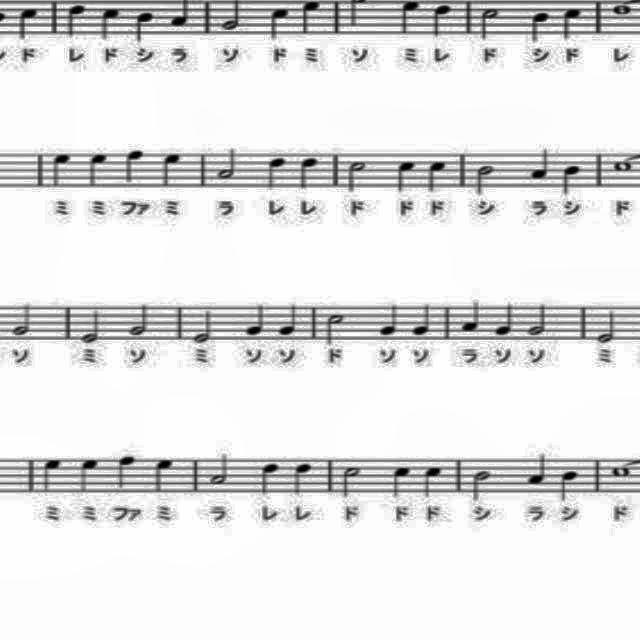Full-note: (609, 156, 637, 176), (605, 462, 631, 480), (608, 1, 632, 19)
Half-note: (187, 302, 217, 350), (124, 296, 154, 340), (7, 295, 37, 339), (338, 459, 367, 503), (471, 156, 499, 200), (320, 306, 348, 350), (204, 444, 232, 488), (343, 153, 372, 194), (76, 302, 102, 346), (469, 464, 495, 508), (476, 4, 504, 44), (596, 306, 624, 346), (526, 298, 550, 342), (212, 146, 240, 182), (218, 0, 246, 32)
Quarter-note: (274, 292, 304, 340), (84, 148, 116, 192), (159, 148, 189, 194), (262, 151, 292, 197), (38, 452, 66, 500), (386, 458, 414, 506), (373, 295, 402, 341), (407, 297, 438, 339), (242, 293, 268, 343), (75, 454, 103, 500), (43, 149, 75, 189), (455, 298, 487, 338), (295, 0, 327, 40), (392, 154, 421, 198), (288, 454, 316, 498), (149, 452, 177, 496), (520, 450, 550, 490), (427, 1, 457, 41), (16, 4, 46, 44), (423, 153, 451, 195), (526, 143, 554, 185), (266, 5, 294, 47), (122, 144, 148, 188), (254, 458, 282, 498), (114, 449, 138, 495), (64, 1, 92, 40), (525, 8, 555, 44), (396, 1, 422, 40), (558, 465, 582, 507), (98, 2, 122, 44), (559, 5, 585, 43), (297, 152, 321, 192), (420, 462, 444, 502), (558, 159, 582, 199), (492, 300, 516, 340), (133, 8, 159, 44)
